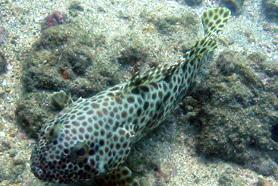Serranidae -Groupers-: (26, 4, 236, 186)
